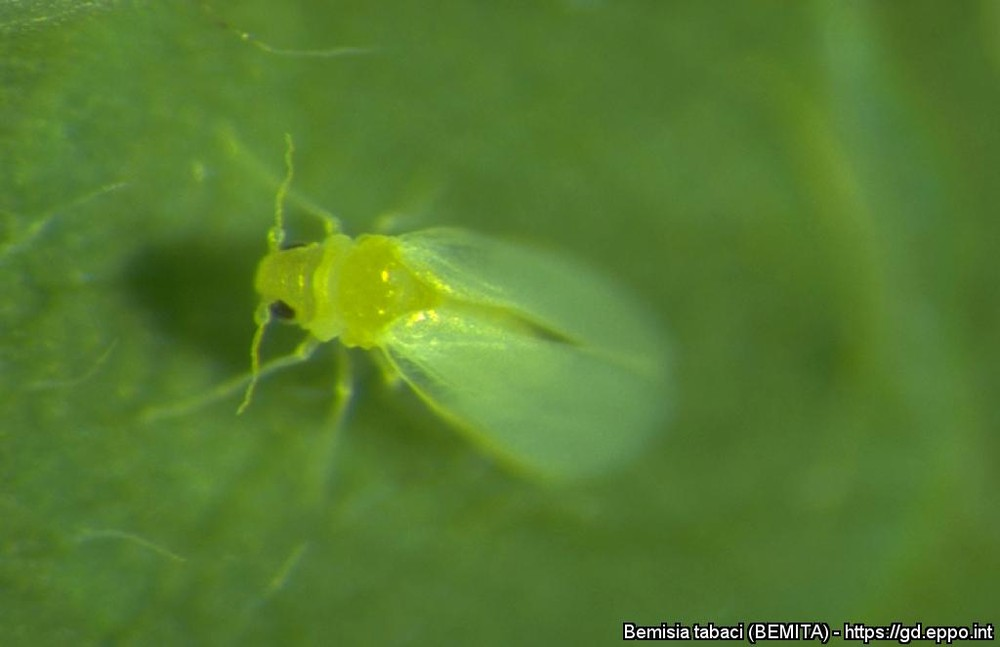Mosca Blanca: (215, 130, 739, 512)
